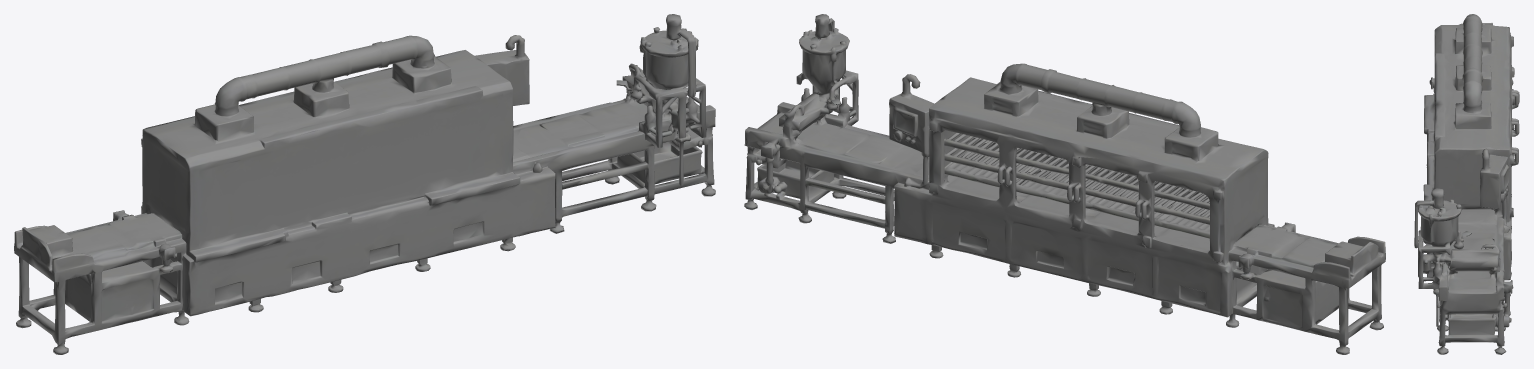
File: primary-former.glb
The picture shows the model from 3 angles, left to right: view 1: azimuth 30°, elevation 25°; view 2: azimuth 150°, elevation 25°; view 3: azimuth 270°, elevation 25°; orthographic projection. The views are drawn at different scales.
Parts seen in each view (by area): view 1: tripo_node_557c0241-873b-4a93-aee0-b497e070a454; view 2: tripo_node_557c0241-873b-4a93-aee0-b497e070a454; view 3: tripo_node_557c0241-873b-4a93-aee0-b497e070a454.
Part boxes in pixels (<box>): tripo_node_557c0241-873b-4a93-aee0-b497e070a454: <box>14,14,715,354</box>; tripo_node_557c0241-873b-4a93-aee0-b497e070a454: <box>744,14,1385,354</box>; tripo_node_557c0241-873b-4a93-aee0-b497e070a454: <box>1414,14,1519,354</box>.
Size of the model in its own units: 1 by 0.3065 by 0.1764.
Materials: 1 (1 with a texture image).
